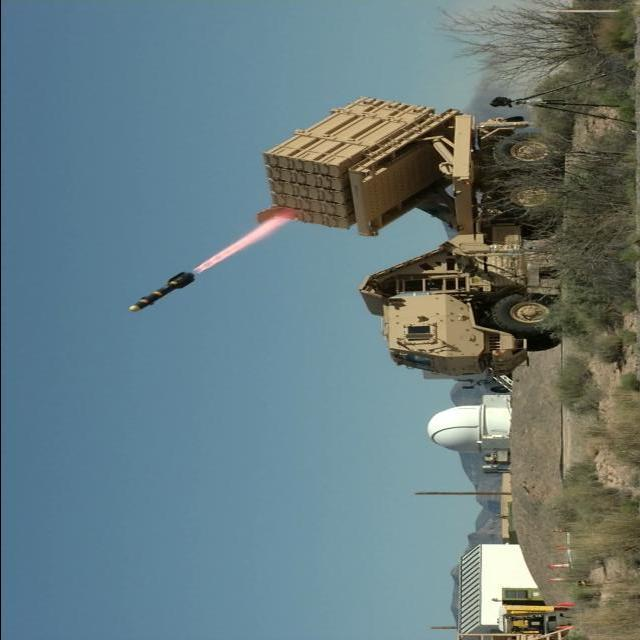missile: (123, 265, 196, 318)
